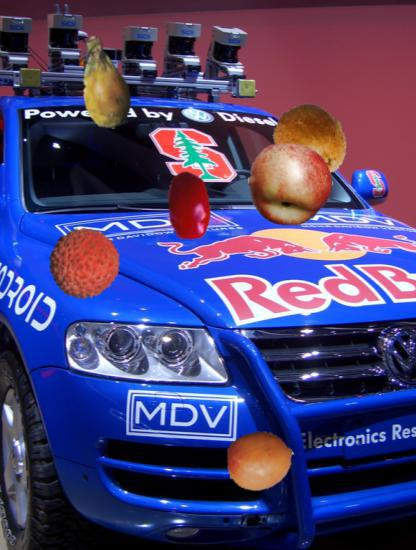Apricot: (225, 427, 292, 494)
Cactus: (56, 35, 152, 131)
Kiwi: (272, 102, 350, 180)
Lychee: (47, 227, 121, 301)
Nectarine: (248, 142, 334, 228)
Tomato: (154, 170, 225, 241)
